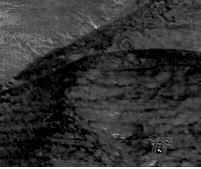Target: (148, 135, 175, 154)
